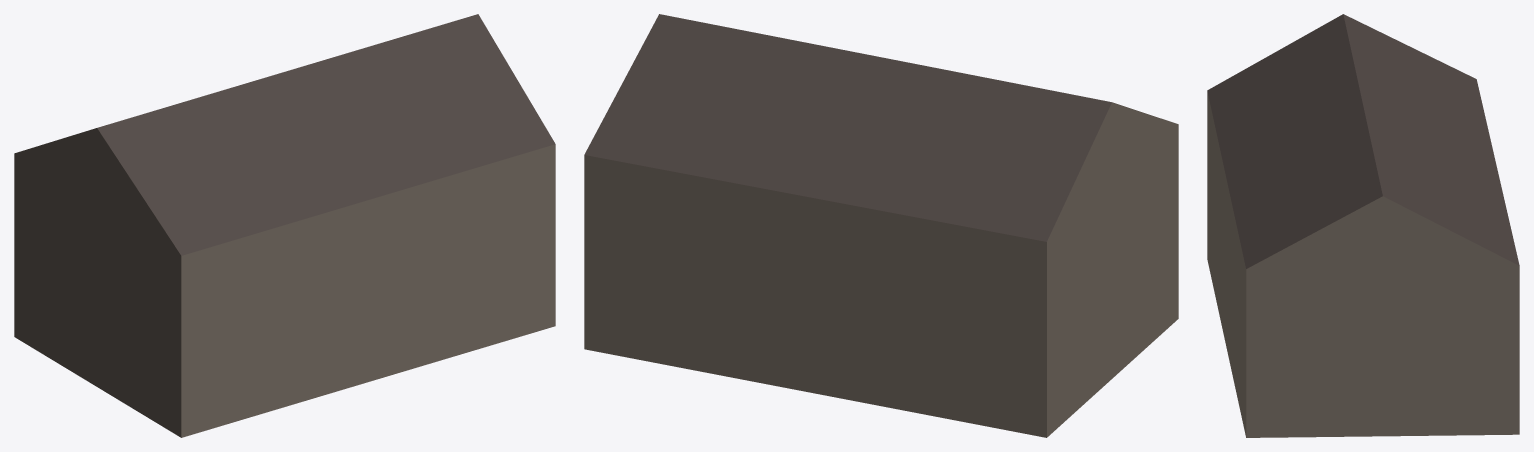
3 views of the same model, side by side, from view 1: azimuth 30°, elevation 25°; view 2: azimuth 150°, elevation 25°; view 3: azimuth 270°, elevation 25° (orthographic). The views are drawn at different scales.
Visible parts, largest first — view 1: HP-w1512965875; view 2: HP-w1512965875; view 3: HP-w1512965875.
Boxes of the visible parts, <box> form: HP-w1512965875: <box>14,14,555,437</box>; HP-w1512965875: <box>584,14,1178,437</box>; HP-w1512965875: <box>1207,14,1519,437</box>.
Size of the model in its own units: 14.39 by 8.54 by 10.07.
